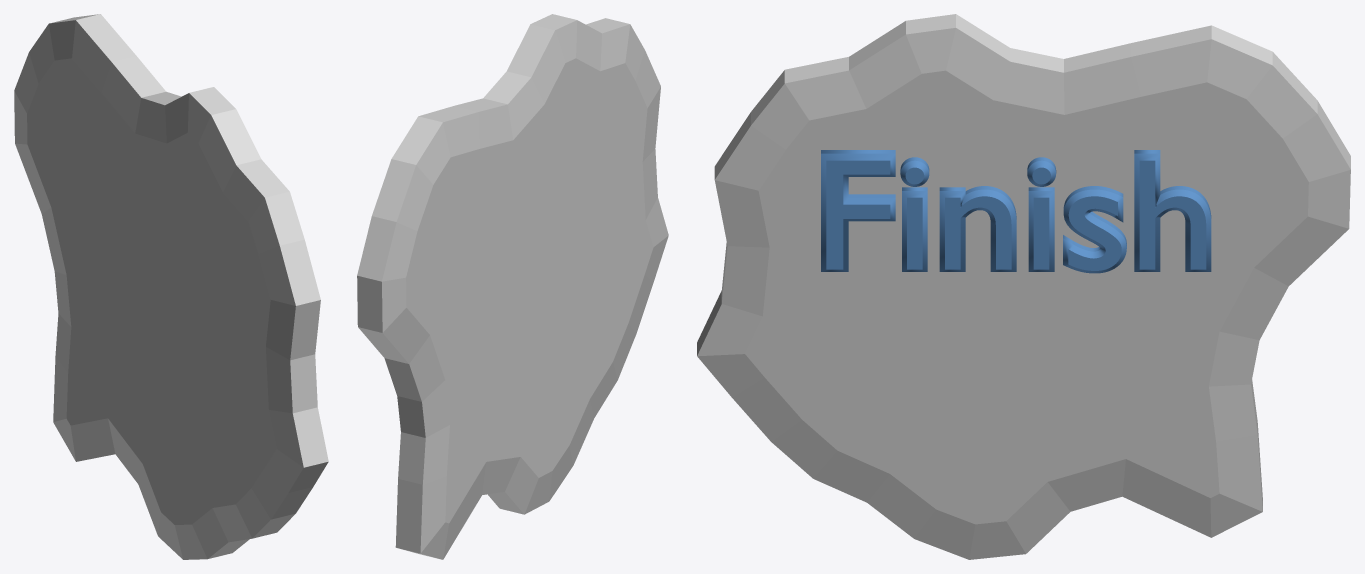
The model's file is MRUIFinish.fbx.
3 renders of one model, left to right at view 1: azimuth 30°, elevation 25°; view 2: azimuth 150°, elevation 25°; view 3: azimuth 270°, elevation 25°, orthographic. The views are drawn at different scales.
Parts seen in each view (by area): view 1: FinishTile; view 2: FinishTile; view 3: FinishTile, Finish.
Part boxes in pixels (box(x1,y1,x2,y2)): FinishTile: box(14, 14, 328, 559); FinishTile: box(357, 14, 668, 559); FinishTile: box(697, 14, 1350, 559); Finish: box(821, 150, 1211, 273).
Size of the model in its own units: 39.33 by 351 by 391.
